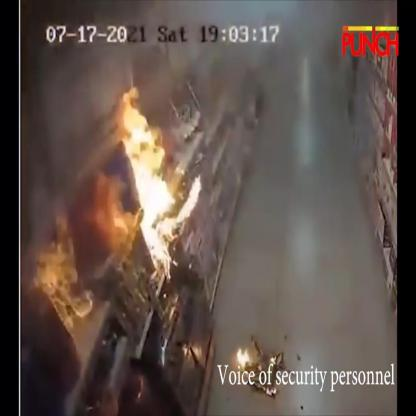fire: (121, 90, 201, 279), (30, 214, 93, 333), (87, 172, 143, 264), (237, 348, 249, 368)
